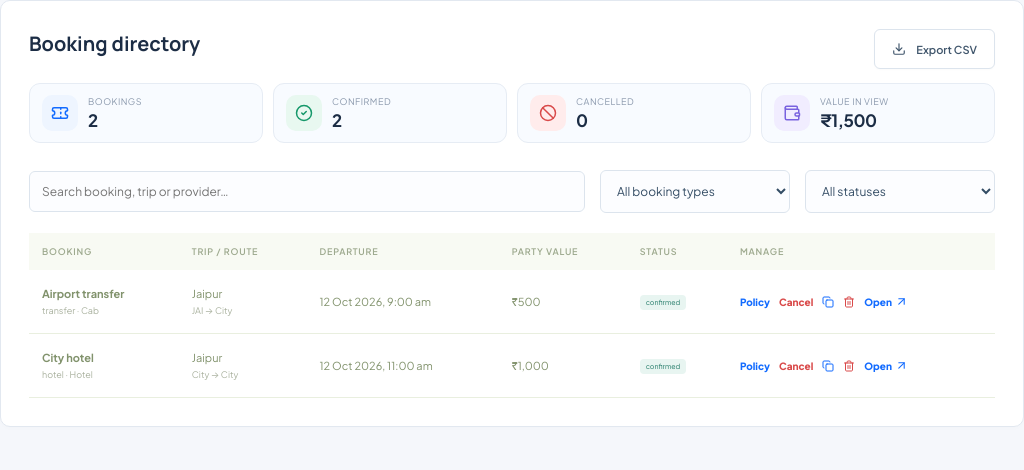
Test: platform components › booking directory filters by type and text
Select "hotel" in the dropdown named "Booking type". click: (695, 192)
box: [600,170,790,213]
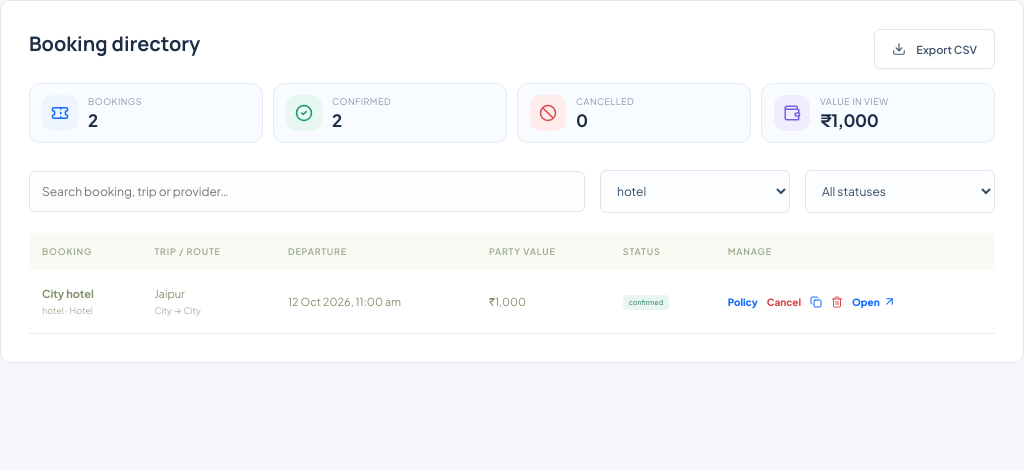
Expected: the text "City hotel" is shown, [42,287,94,300]
Expected: the text "Airport transfer" is gone
Type "missing" into the field named "Search bookings". click: (307, 192)
box: [29,171,585,212]
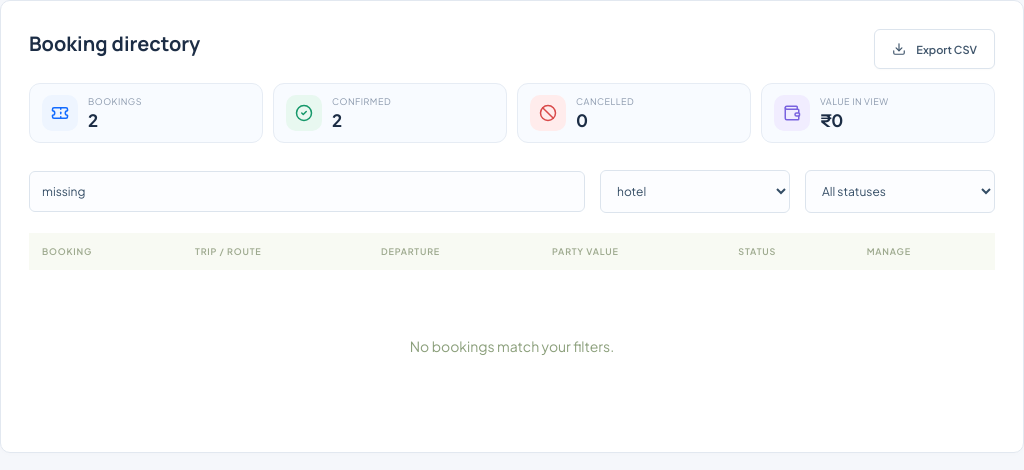
Expected: the text "No bookings match your filters." is shown, [410,337,614,355]
